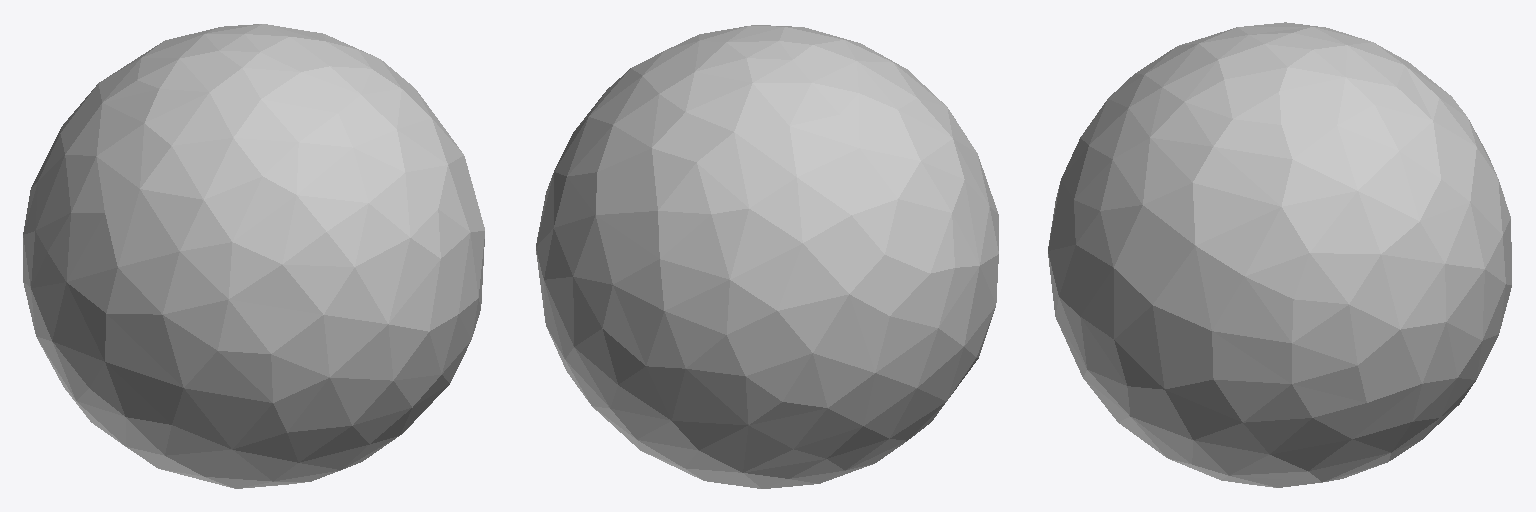
File: lodtest_lod-000.obj
3 views of the same model, side by side, from view 1: azimuth 30°, elevation 25°; view 2: azimuth 150°, elevation 25°; view 3: azimuth 270°, elevation 25° (orthographic).
Visible parts, largest first — view 1: lodtest_lod-000_lodtest.002; view 2: lodtest_lod-000_lodtest.002; view 3: lodtest_lod-000_lodtest.002.
Part boxes in pixels (x1,y1,x2,y2): lodtest_lod-000_lodtest.002: (23,24,484,488); lodtest_lod-000_lodtest.002: (536,25,998,488); lodtest_lod-000_lodtest.002: (1048,22,1511,487).
Bounding box in the file's own units: 2 × 2 × 2.